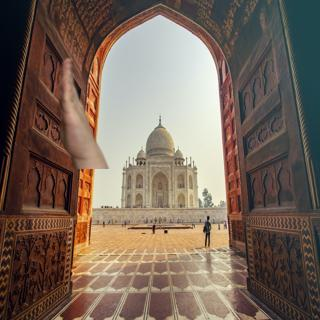RIGHT: (52, 54, 101, 155)
